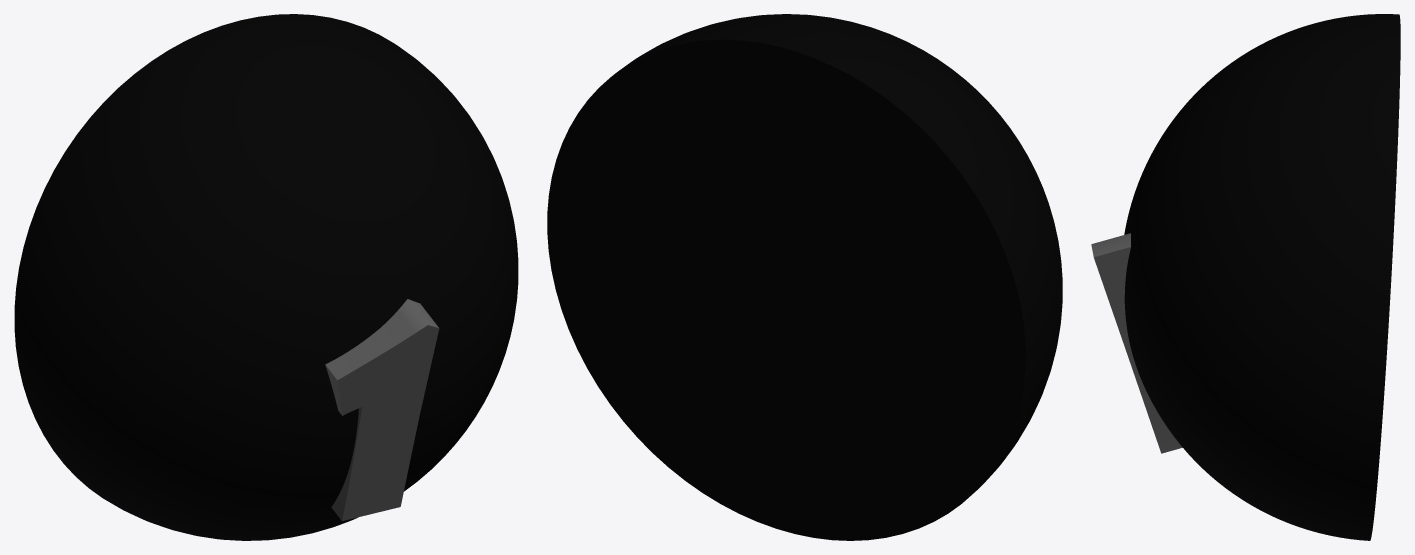
Rendered from button1.fbx.
3 views of the same model, side by side, from view 1: azimuth 30°, elevation 25°; view 2: azimuth 150°, elevation 25°; view 3: azimuth 270°, elevation 25° (orthographic). The views are drawn at different scales.
Visible parts, largest first — view 1: node_id7, node_id5; view 2: node_id7; view 3: node_id7, node_id5.
Part boxes in pixels (box(x1,y1,x2,y2)): node_id7: box(14, 14, 518, 540); node_id5: box(325, 299, 439, 521); node_id7: box(547, 14, 1062, 540); node_id7: box(1124, 14, 1400, 540); node_id5: box(1091, 233, 1182, 453).
Bounding box in the file's own units: 0.512 × 0.5115 × 0.3002.
2 materials, 1 textured.
